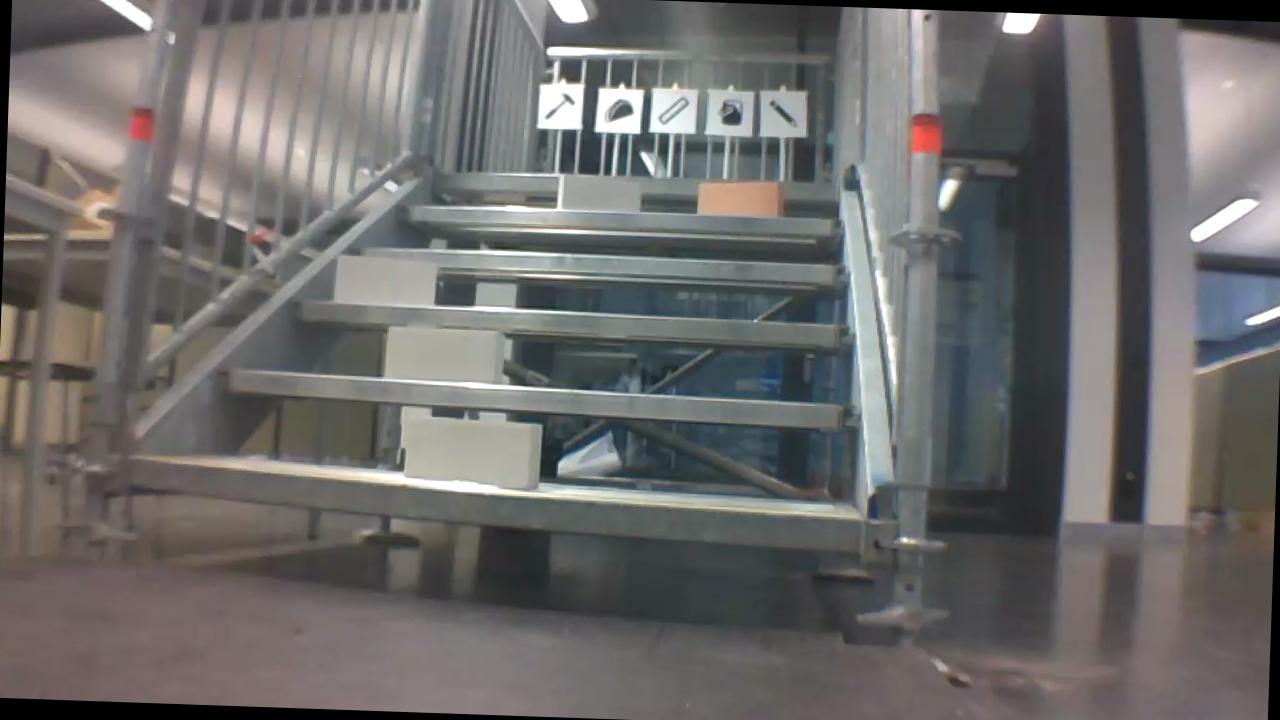brick: (406, 415, 541, 488), (388, 327, 504, 384), (335, 255, 434, 306), (699, 178, 786, 216), (556, 176, 641, 212)
bucket: (716, 94, 748, 127)
edge: (125, 456, 860, 551), (218, 369, 860, 429), (292, 301, 859, 346), (353, 244, 848, 283), (402, 204, 848, 238), (433, 168, 839, 202)
hammer: (542, 92, 576, 123)
pencil: (760, 94, 802, 130)
ruler: (654, 91, 688, 129)
steps: (118, 153, 882, 561)
taco: (601, 94, 634, 126)
